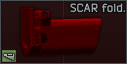FN SCAR folding polymer stock: (0, 0, 127, 64)
